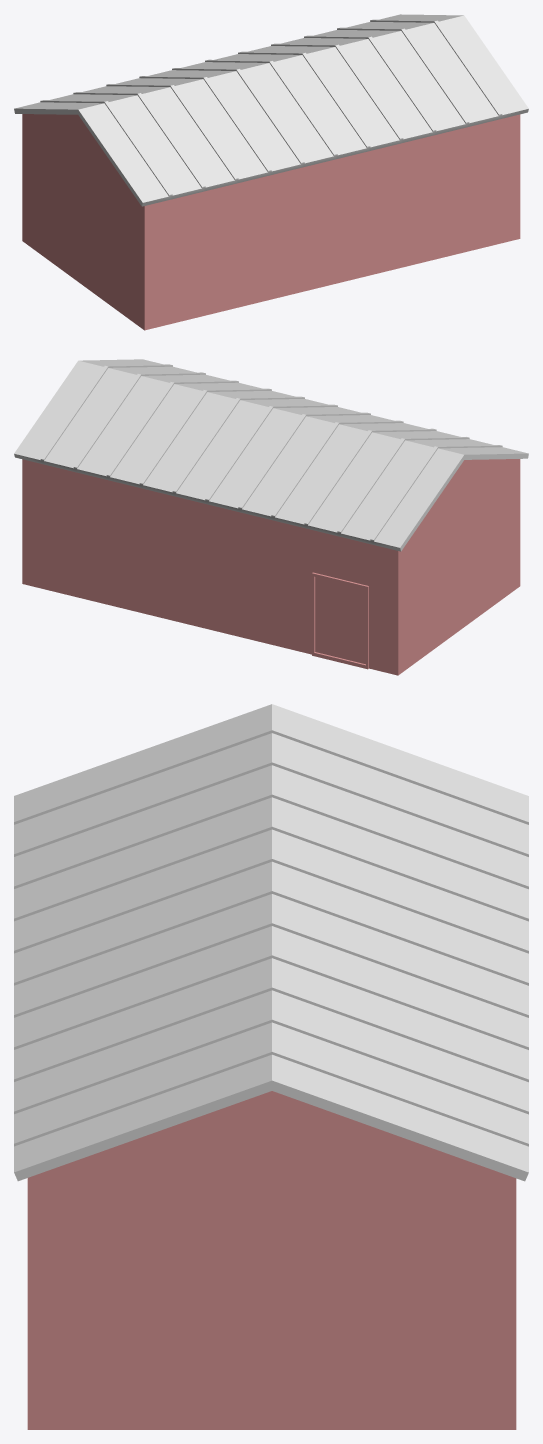
The model's file is house06.gltf.
3 views of the same model, one above another, from view 1: azimuth 30°, elevation 25°; view 2: azimuth 150°, elevation 25°; view 3: azimuth 270°, elevation 25° (orthographic). The views are drawn at different scales.
Parts seen in each view (by area): view 1: wall, roof; view 2: wall, roof; view 3: roof, wall.
Part boxes in pixels (<box>): wall: <box>22,114,520,330</box>; roof: <box>14,14,528,206</box>; wall: <box>22,459,520,675</box>; roof: <box>14,359,528,551</box>; roof: <box>14,704,528,1181</box>; wall: <box>27,1091,516,1429</box>.
Bounding box in the file's own units: 2350 × 1040 × 1359.
